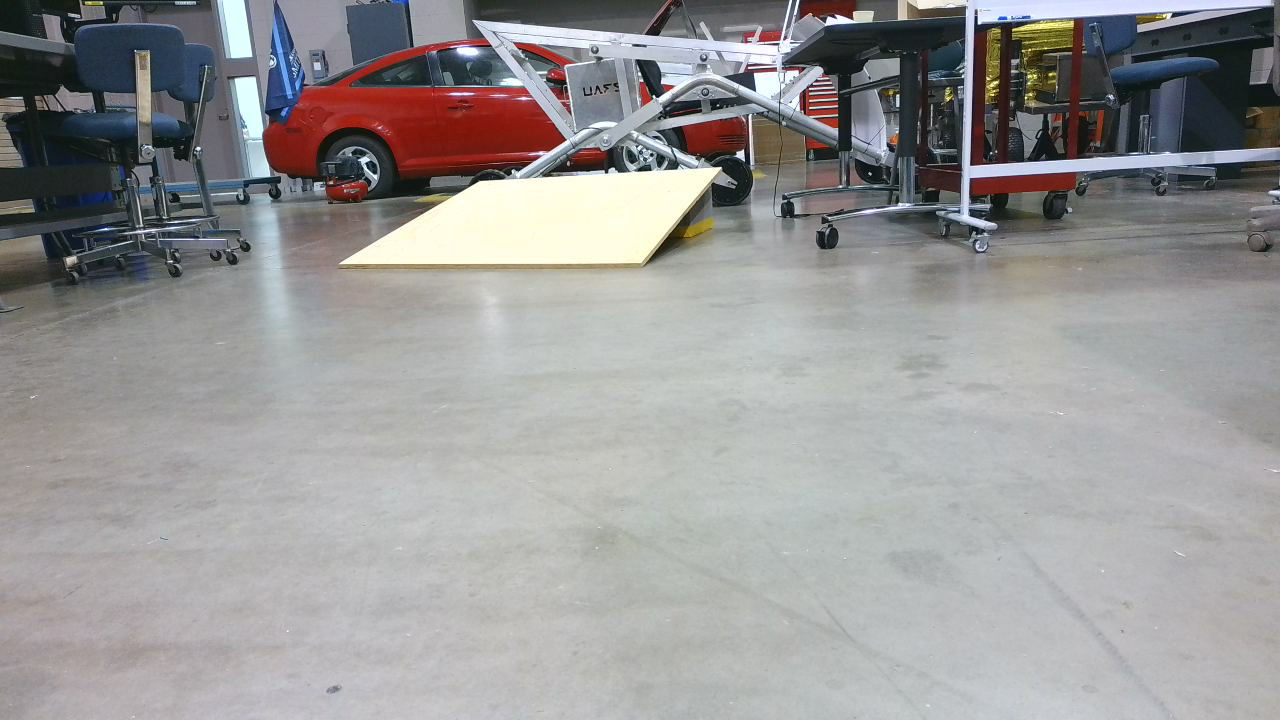concrete_block: (338, 171, 728, 272)
